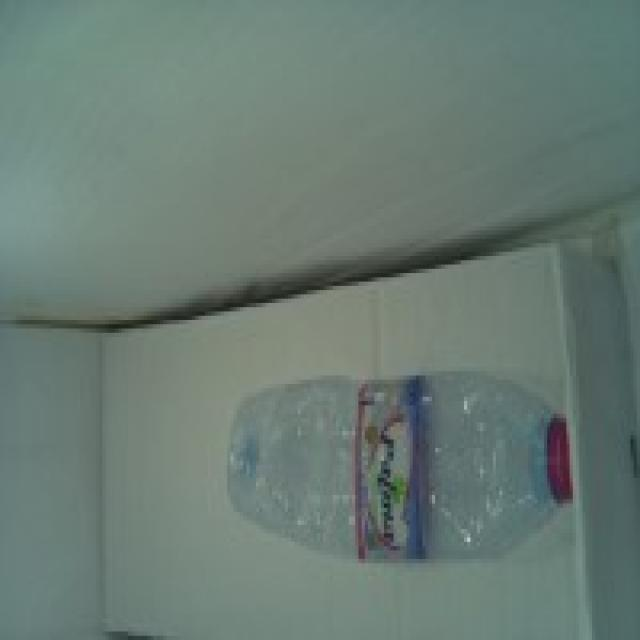Anorganik: (224, 375, 579, 576)
